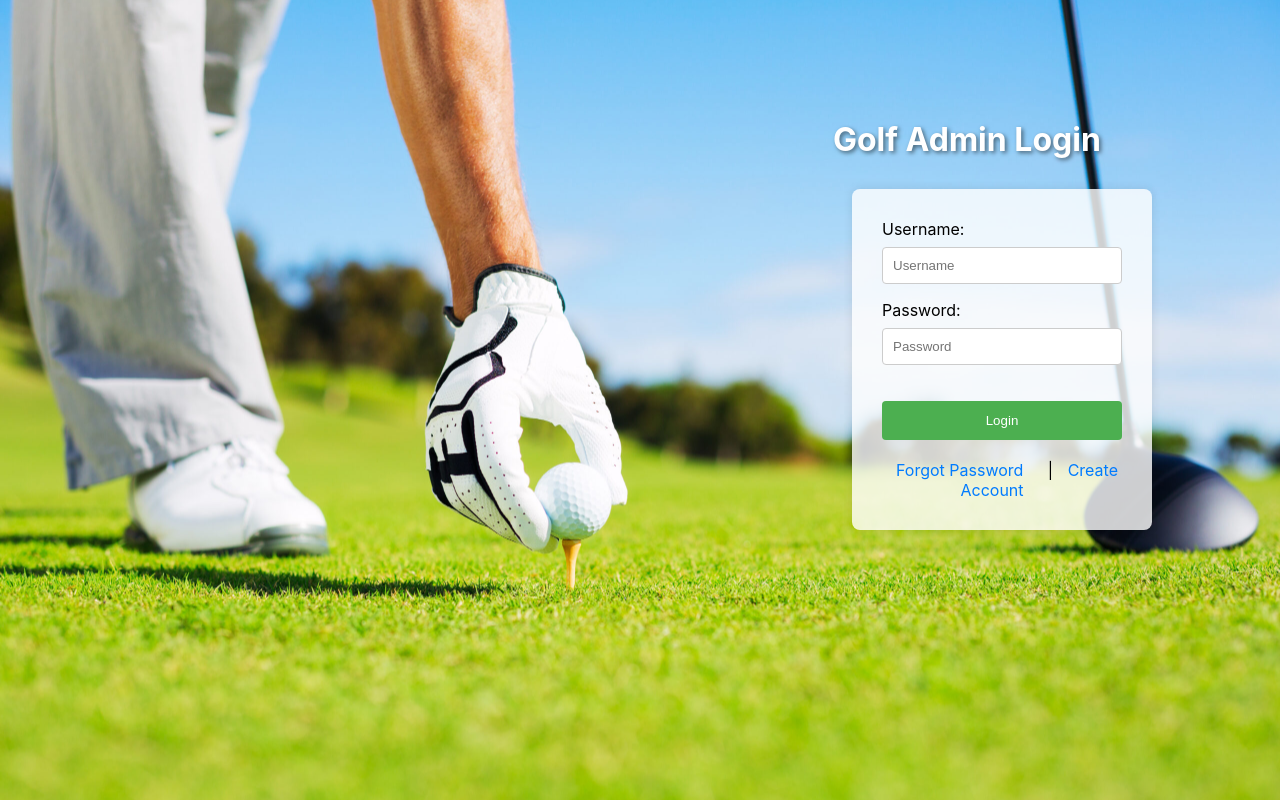
Test: Login Component › should display error message if login fails
The width and height of the screenshot is (1280, 800).
Type "testuser" into the field labelled "Username:".
click(1002, 266); type("testuser")  # box [882, 247, 1122, 284]
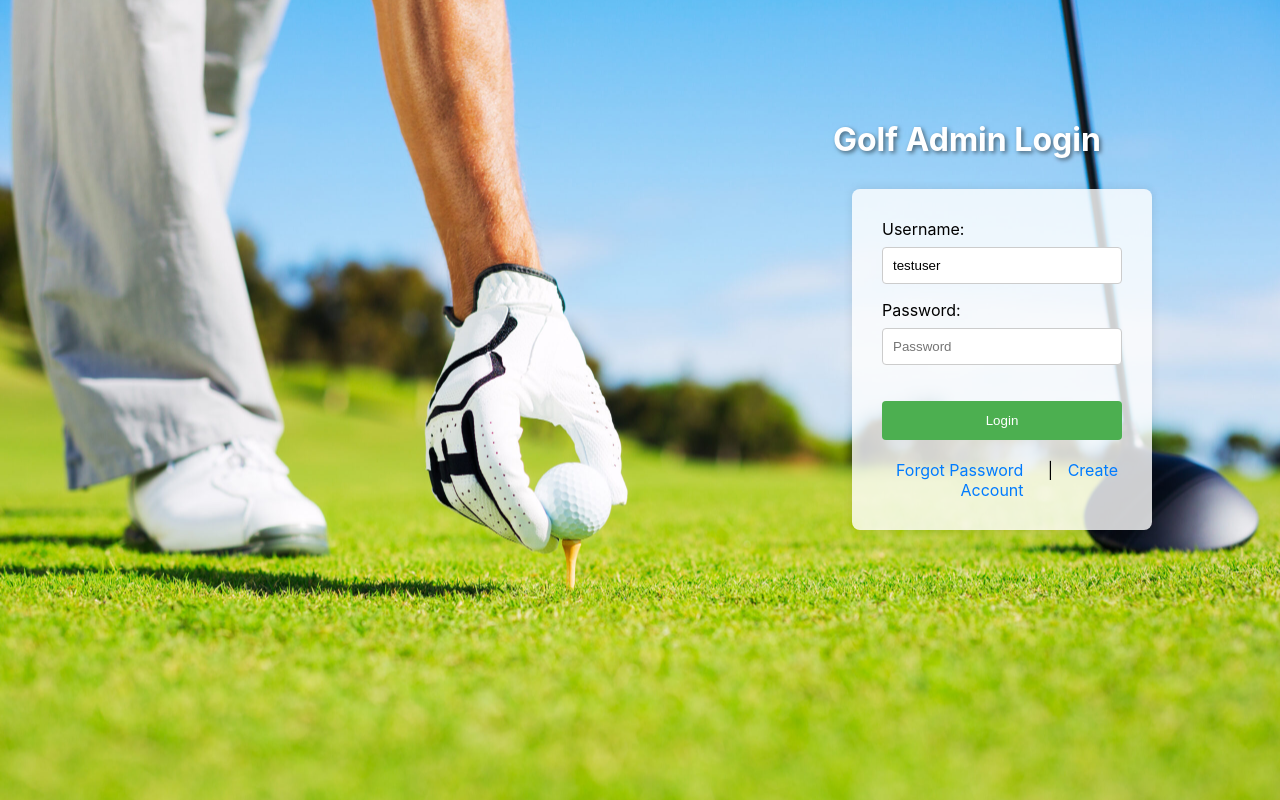
Type "testpassword" into the password field labelled "Password:".
click(1002, 346); type("testpassword")  # box [882, 328, 1122, 365]
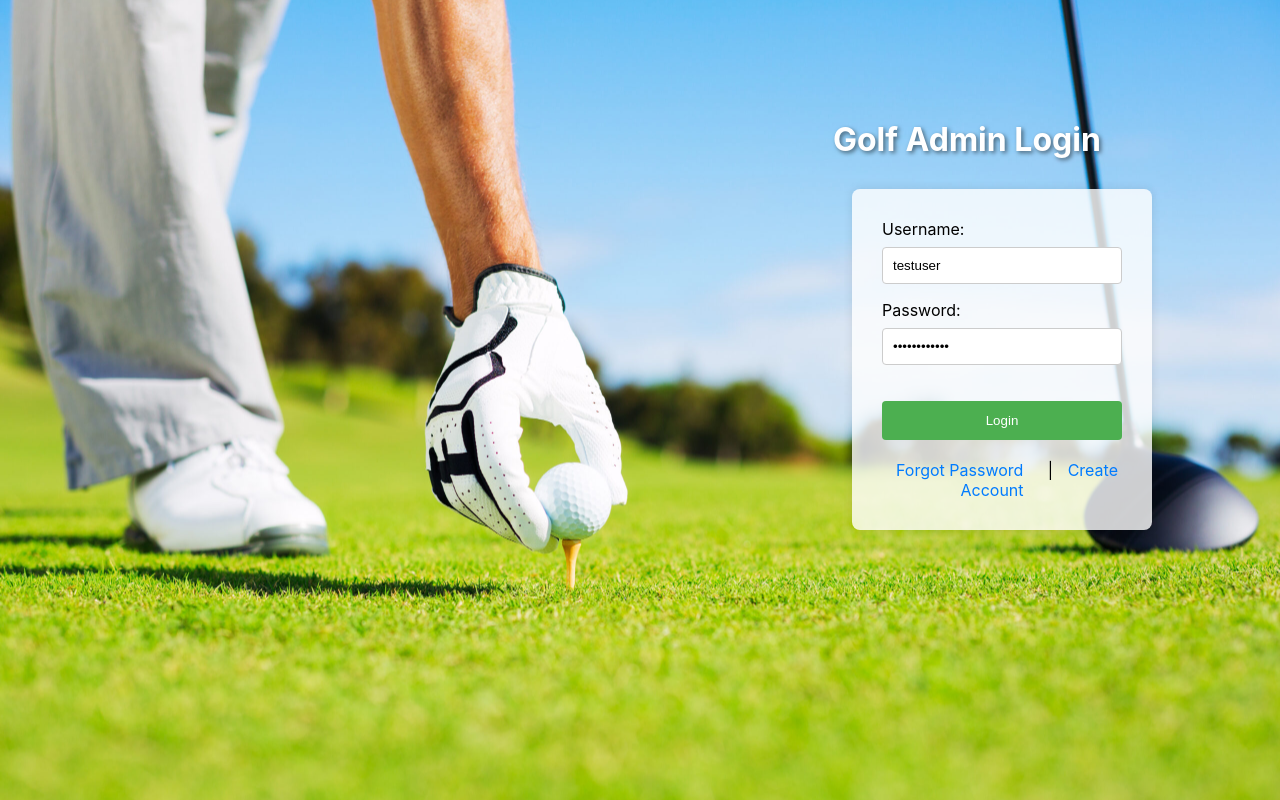
Click the button "Login".
click(1002, 420)  # box [882, 401, 1122, 440]
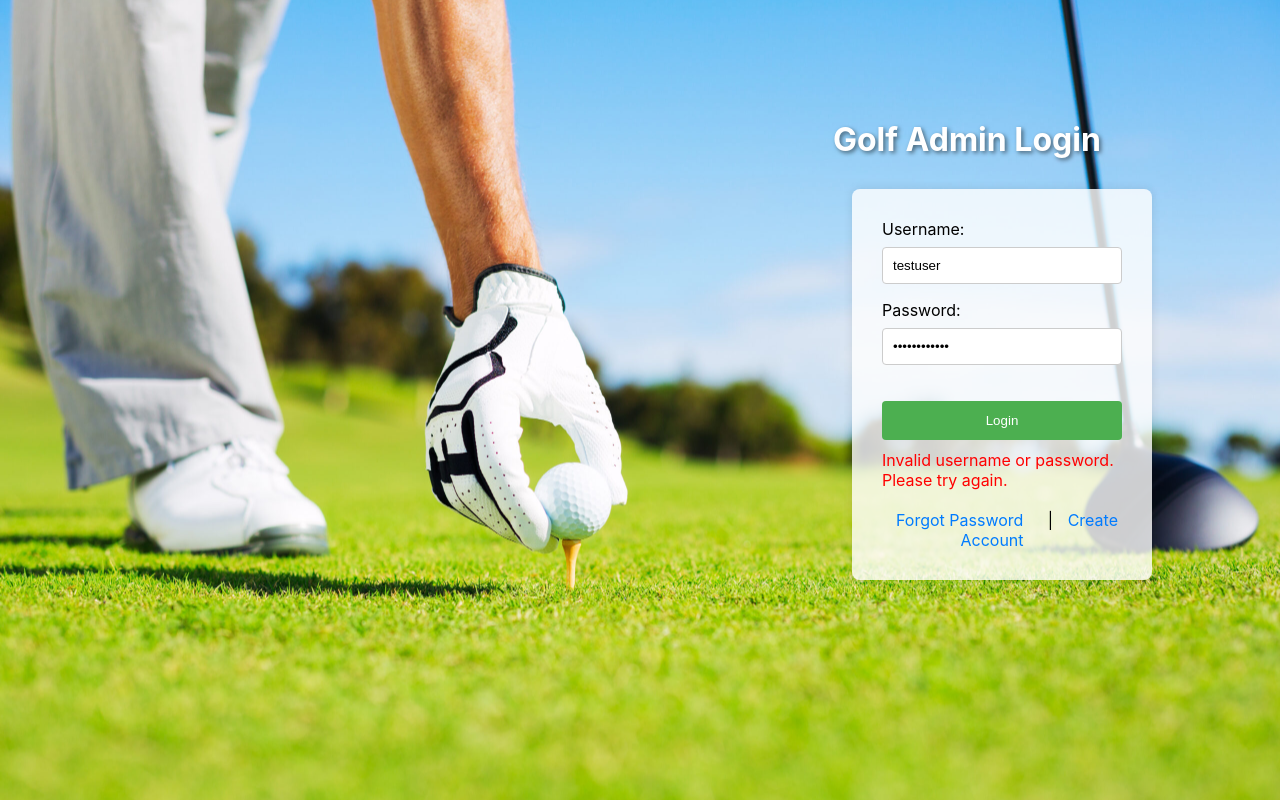
Check: the text "Invalid username or password. Please try again." is shown, box [882, 450, 1122, 490]
